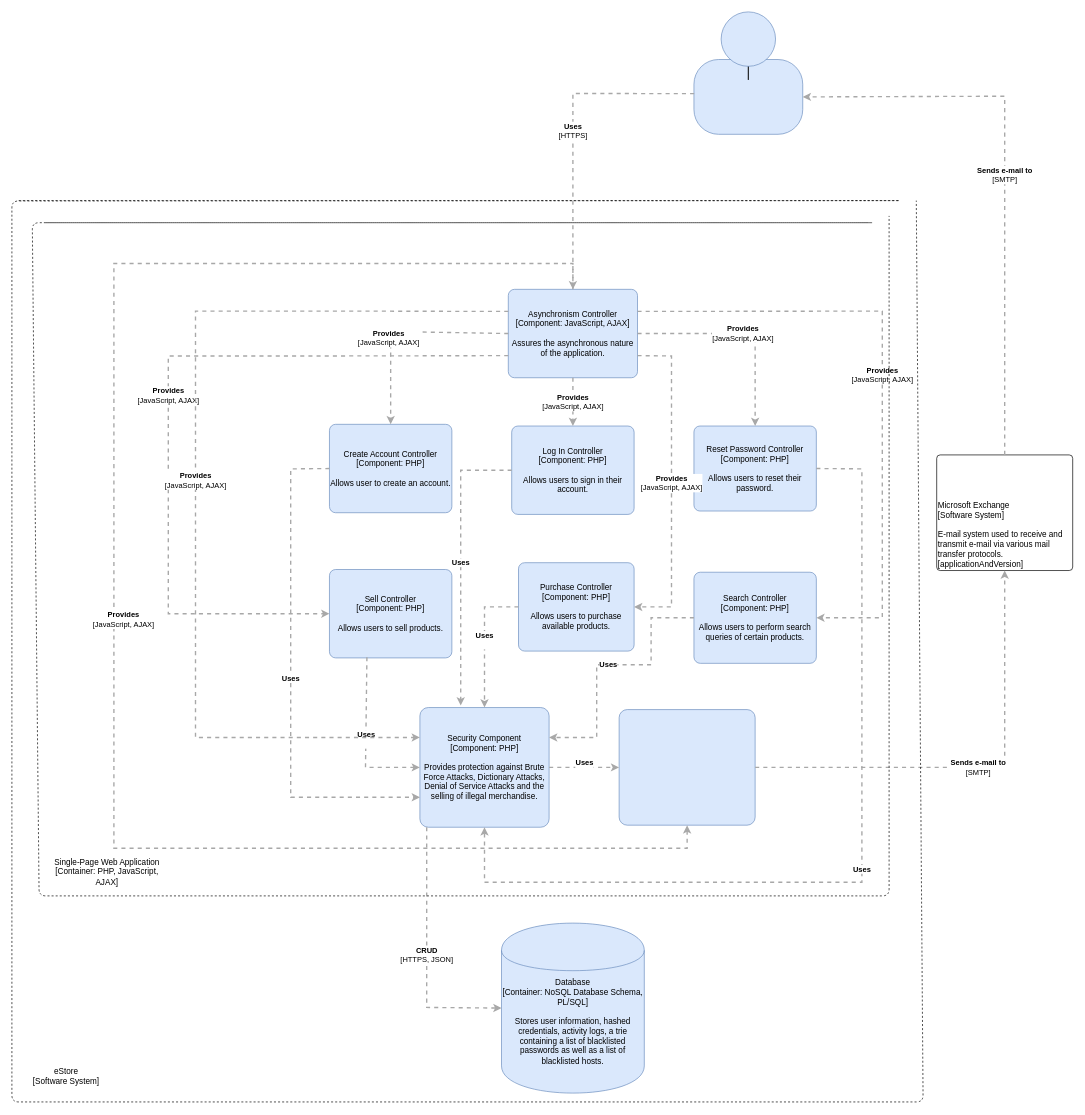
Image size: 1085x1115. Some labels were removed from this diagram. The centre of each missing label's shape, as x and y in pixels:
"E-mail Component [Component: PHP ] Sends e-mails to users." belongs at point 686,767.
"User [Person] Individual utilizing our application." belongs at point 748,96.
